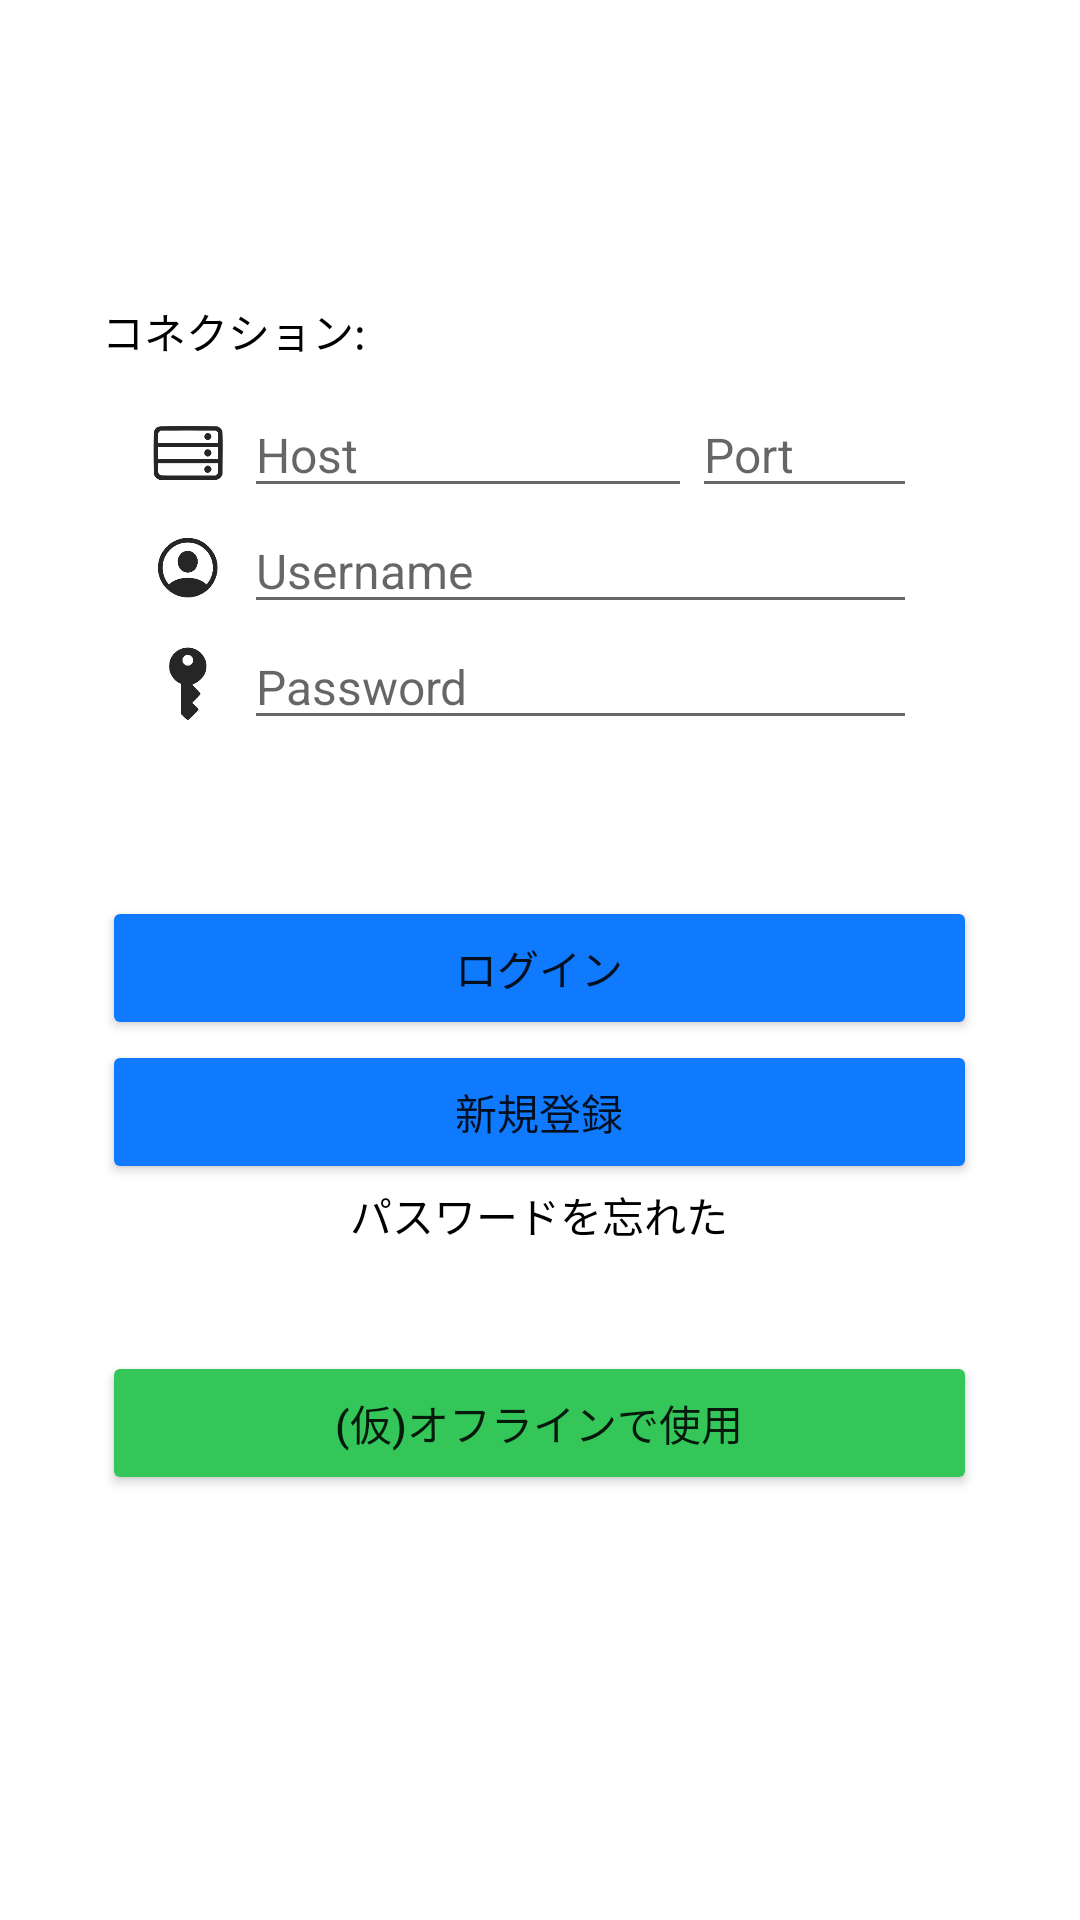

Icons on this 1080w x 1920h Android screen, each with its box as Rect(x1, y1, x2, y2):
key: Rect(169, 647, 207, 720)
server: Rect(153, 426, 223, 480)
